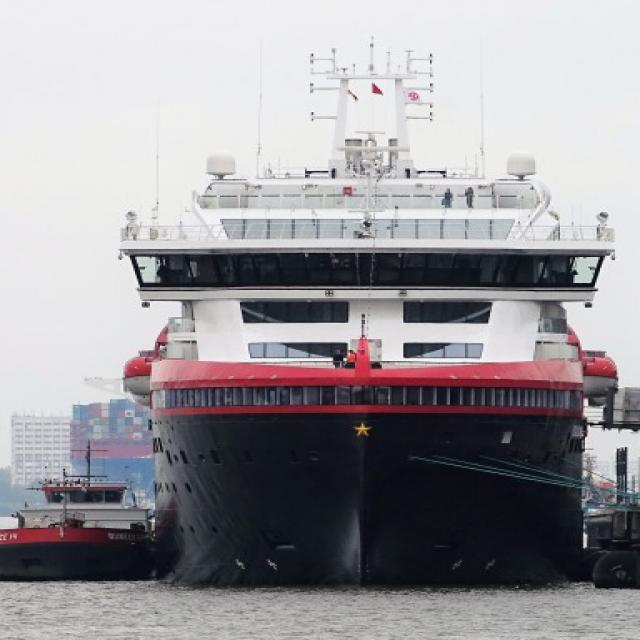cruises: (106, 35, 640, 600)
